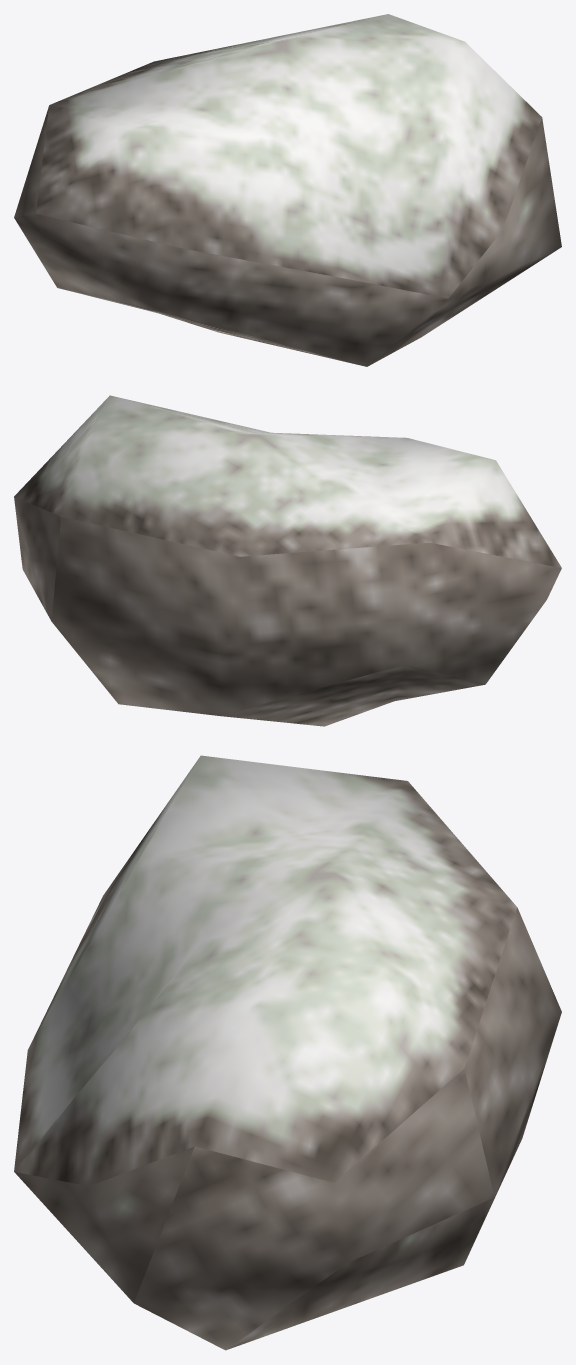
Rendered from mbouldersno_1.obj.
The picture shows the model from 3 angles, top to bottom: view 1: azimuth 30°, elevation 25°; view 2: azimuth 150°, elevation 25°; view 3: azimuth 270°, elevation 25°; orthographic projection. The views are drawn at different scales.
Visible parts, largest first — view 1: mbouldersno_1; view 2: mbouldersno_1; view 3: mbouldersno_1.
Part boxes in pixels (box(x1,y1,x2,y2)): mbouldersno_1: box(14, 14, 561, 366); mbouldersno_1: box(14, 395, 561, 726); mbouldersno_1: box(14, 755, 561, 1350).
Size of the model in its own units: 2.2 by 1.13 by 1.49.
